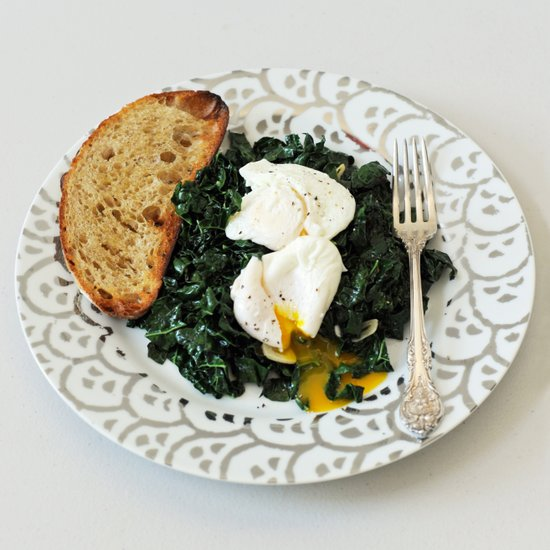fried egg: (234, 161, 341, 336)
slice of bread: (61, 90, 229, 320)
